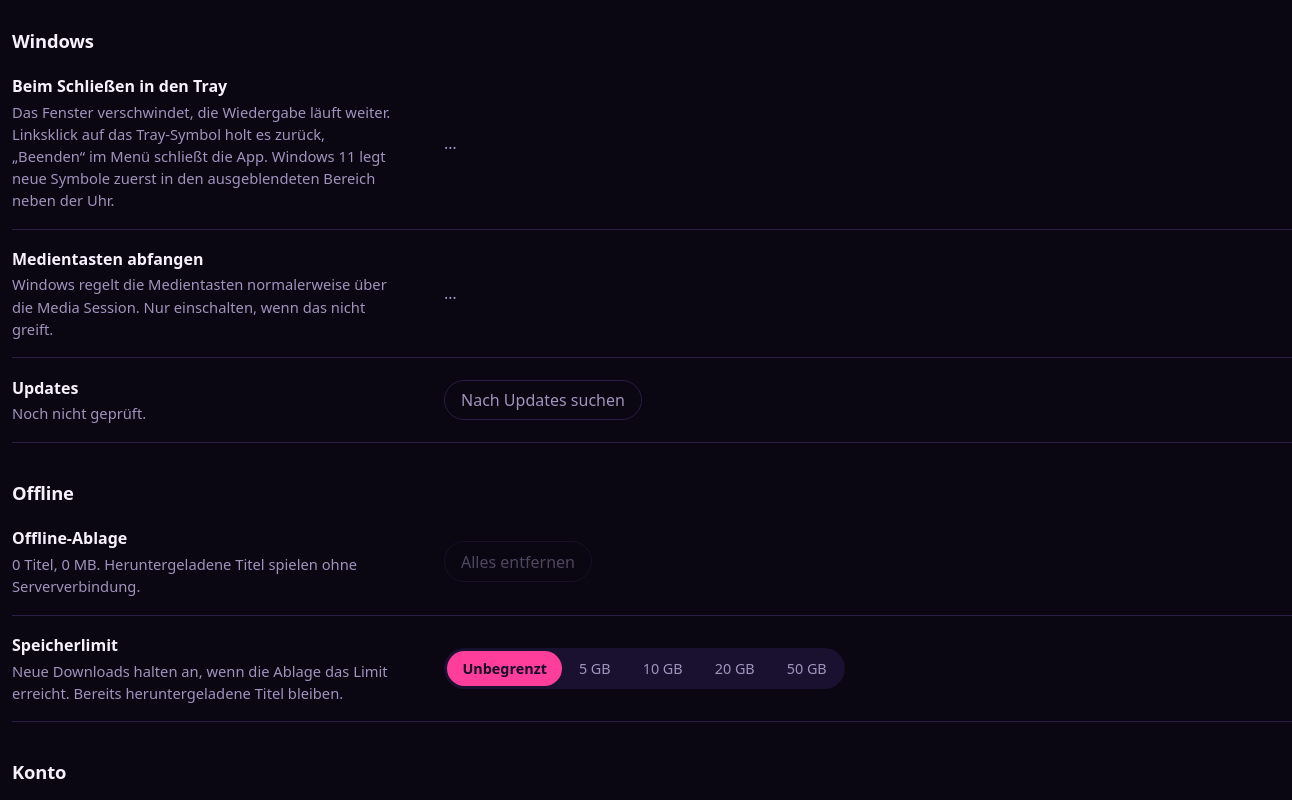
Test: Windows-Einstellungen › ersetzt ein neues Update-Ergebnis nicht durch die verspätete automatische Prüfung
(page scrolled)
Step 1. Click the button "Nach Updates suchen" → (543, 400), box x1=444 y1=380 x2=642 y2=420
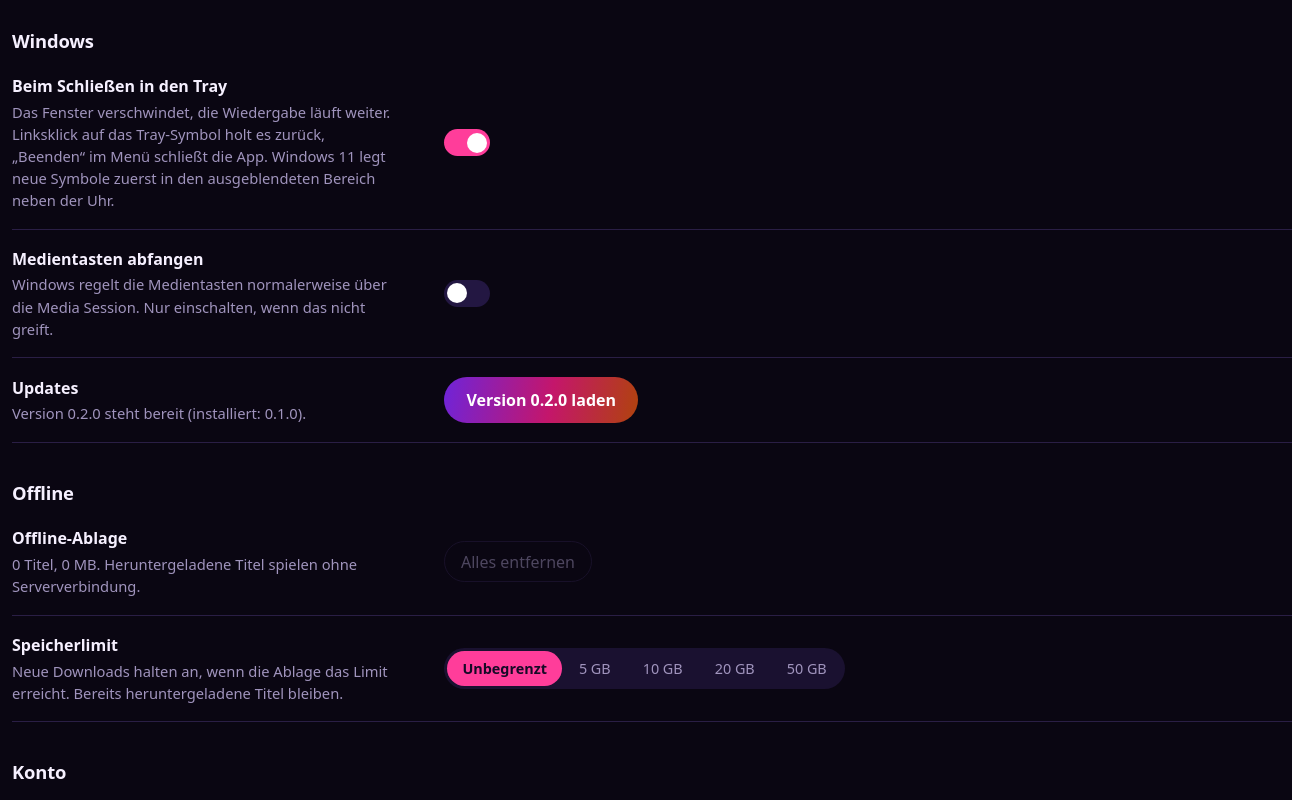
Expected: the text "Version 0.2.0 steht bereit (installiert: 0.1.0)." is shown, x1=12 y1=403 x2=306 y2=423
